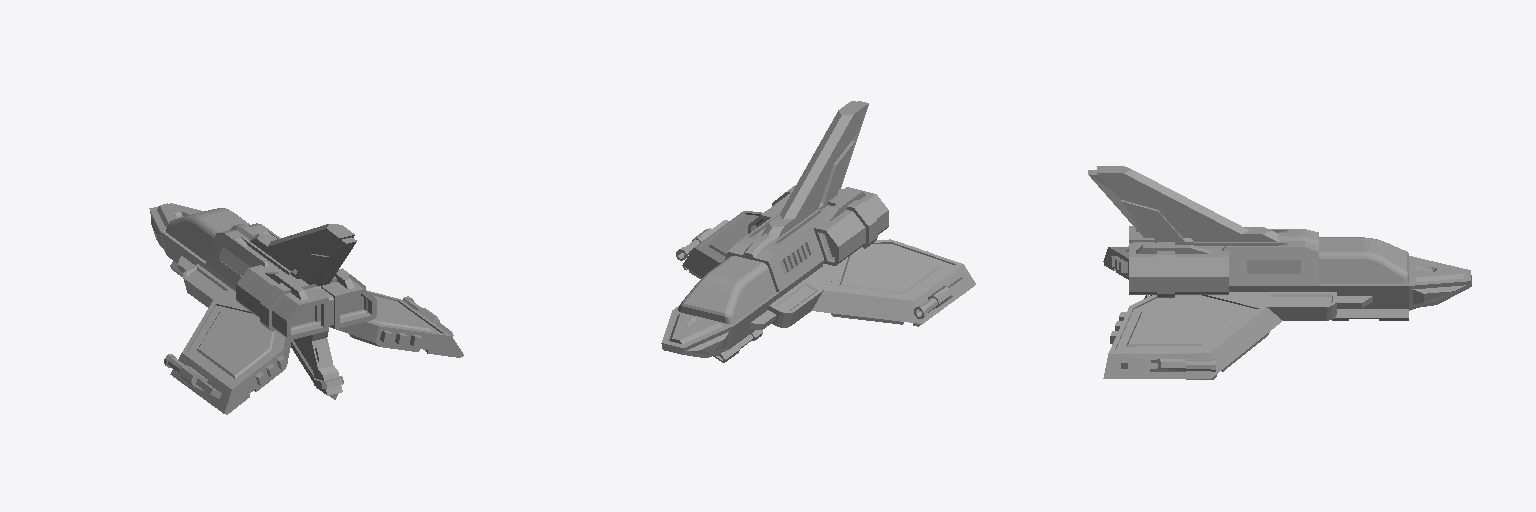
The model's file is fighter01.obj.
The picture shows the model from 3 angles: view 1: azimuth 30°, elevation 25°; view 2: azimuth 150°, elevation 25°; view 3: azimuth 270°, elevation 25°; orthographic projection.
Visible parts, largest first — view 1: mesh; view 2: mesh; view 3: mesh.
Boxes of the visible parts, box(x1,y1,x2,y2) form: mesh: box(149, 203, 463, 414); mesh: box(661, 101, 975, 362); mesh: box(1088, 166, 1471, 379).
Size of the model in its own units: 4 by 2.65 by 5.34.